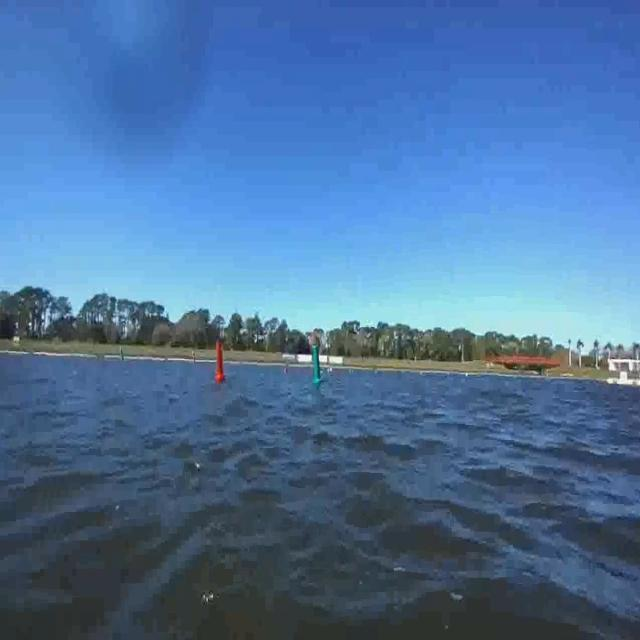green-column-buoy: (306, 332, 328, 389)
red-column-buoy: (207, 328, 230, 386)
